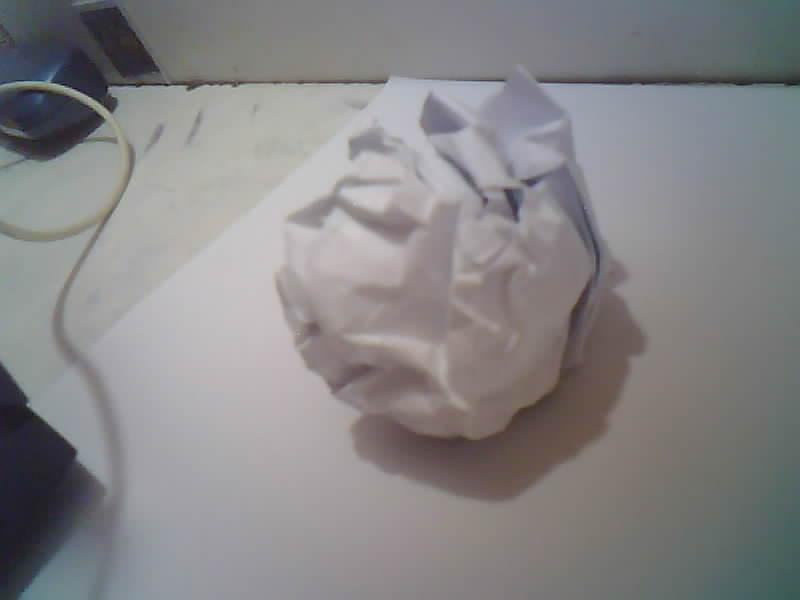biodegradable: (276, 69, 609, 439)
